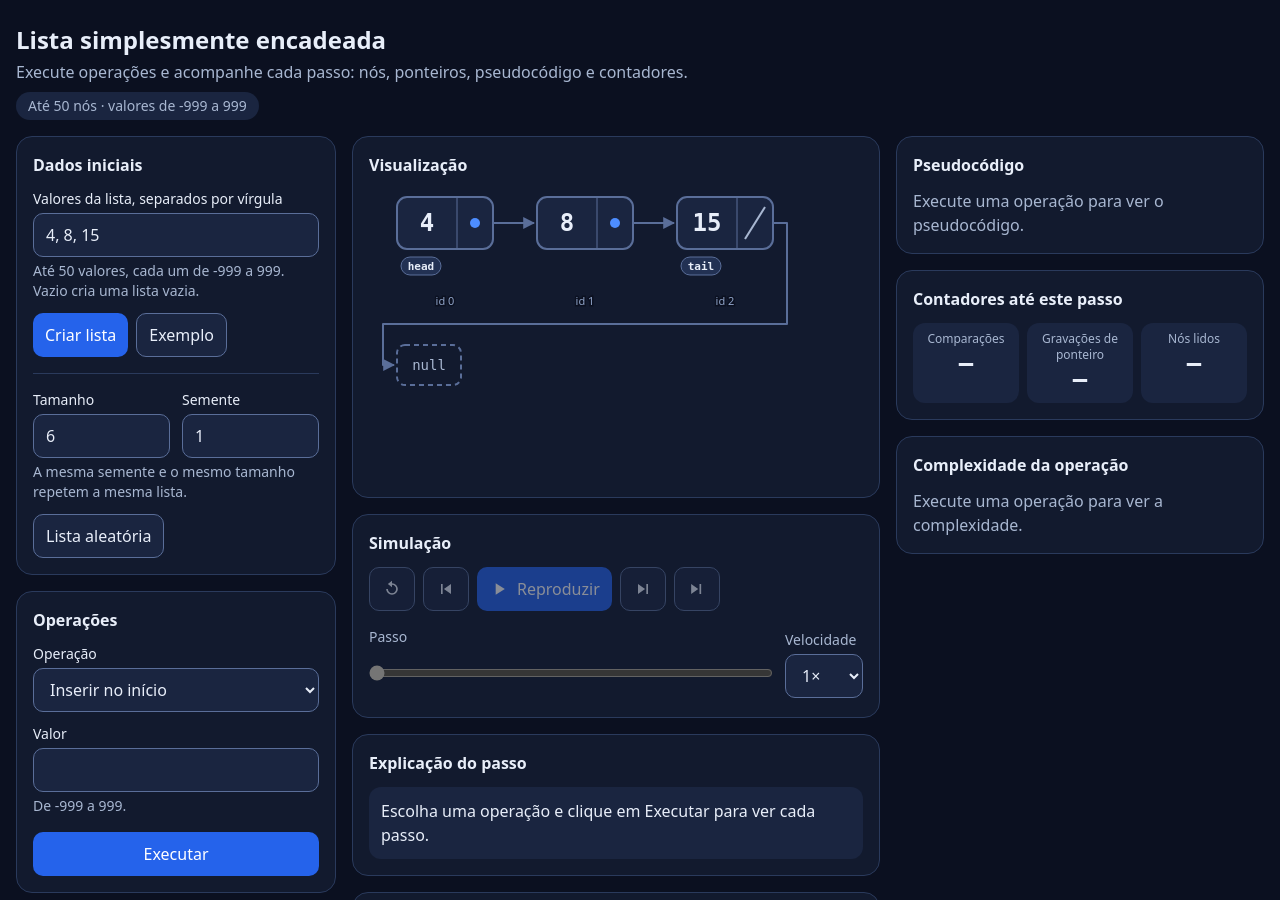
Test: tratamento de erros › lista inicial inválida: aponta o valor com problema e mantém a lista atual
The width and height of the screenshot is (1280, 900).
Replace the text in the field labelled "Valores da lista, separados por vírgula" with "1, 2000, 3": (176, 235) x1=33 y1=213 x2=319 y2=257
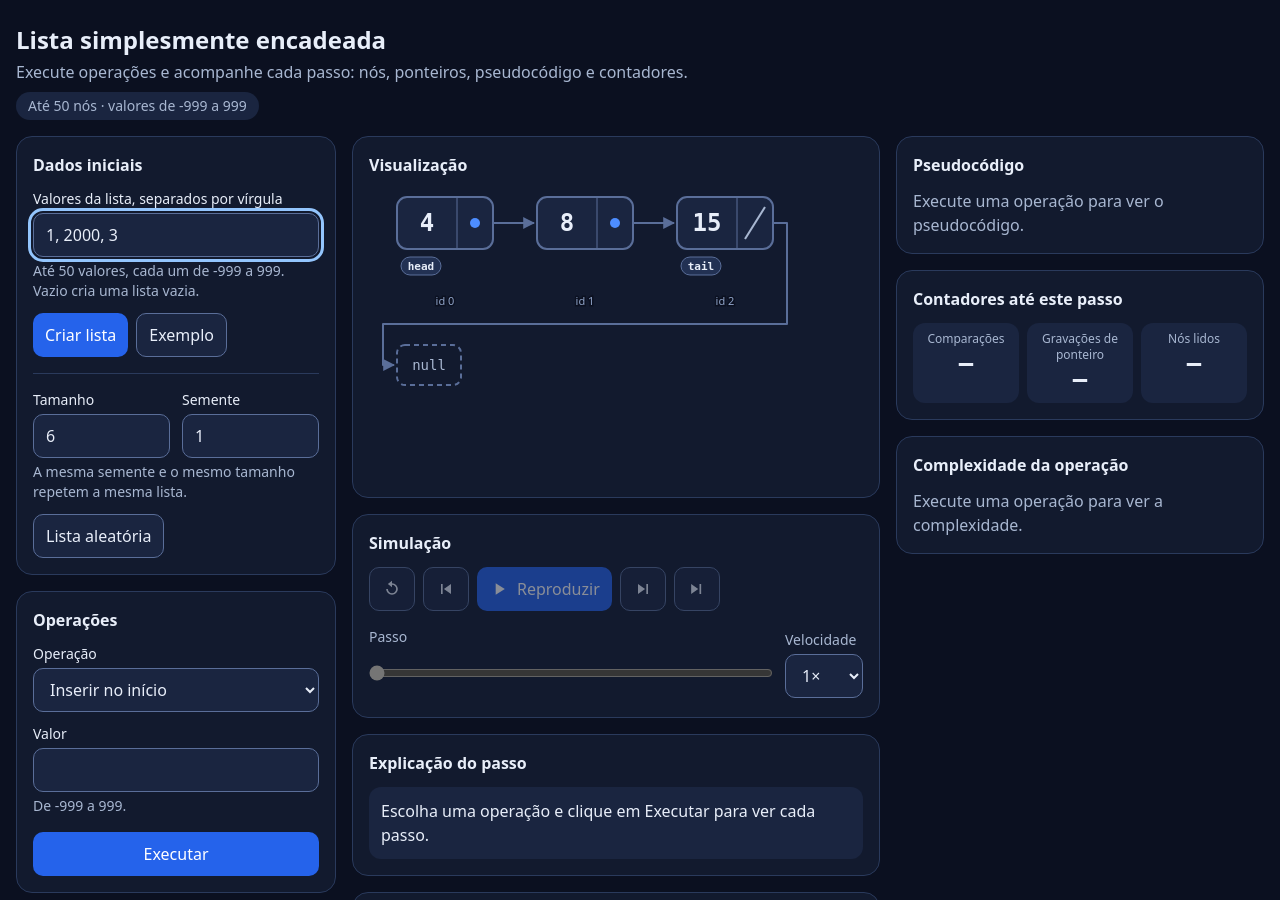
Click the button "Criar lista": (81, 335) x1=33 y1=313 x2=128 y2=357
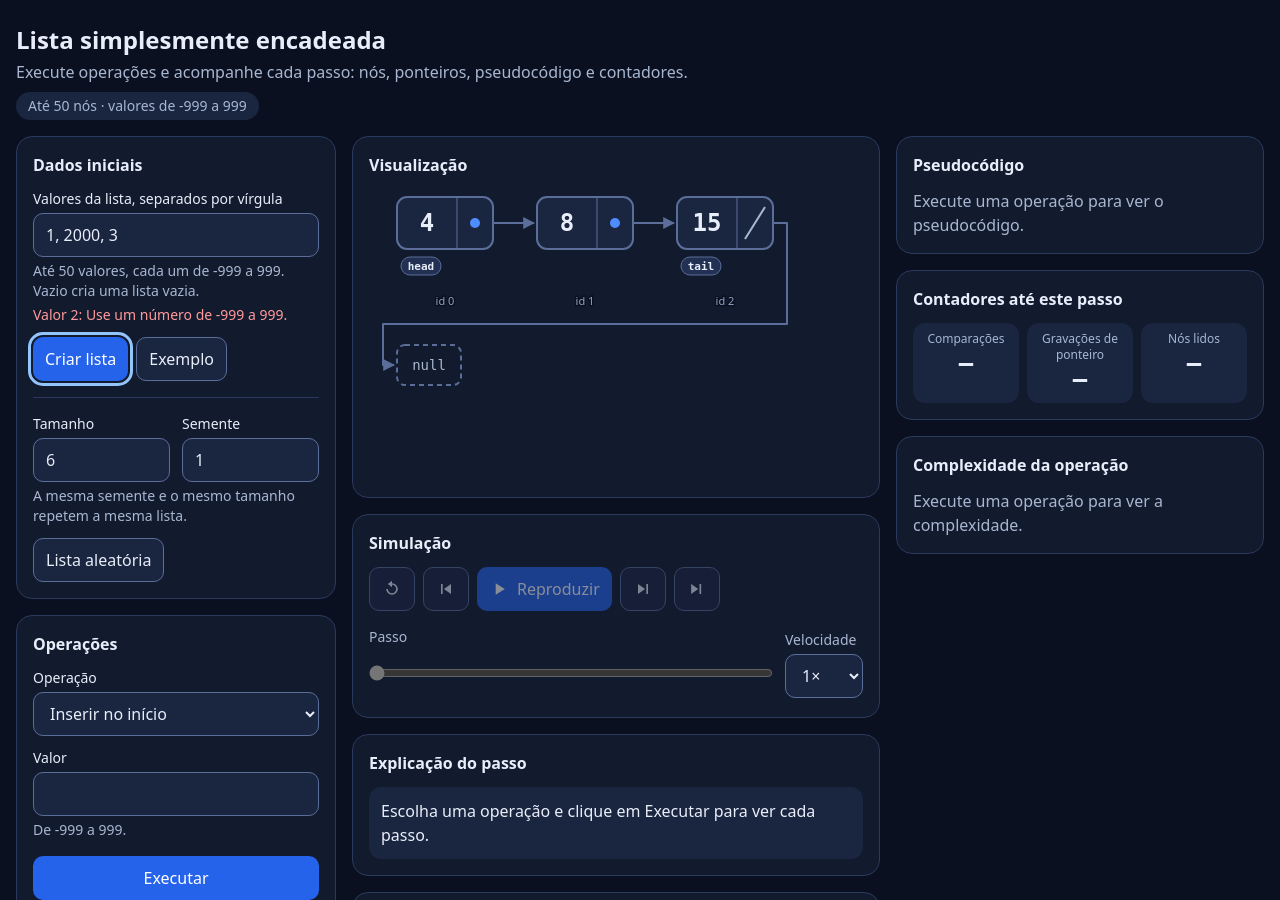
Expected: the text "Valor 2: Use um número de -999 a 999." is shown, x1=33 y1=305 x2=319 y2=325
